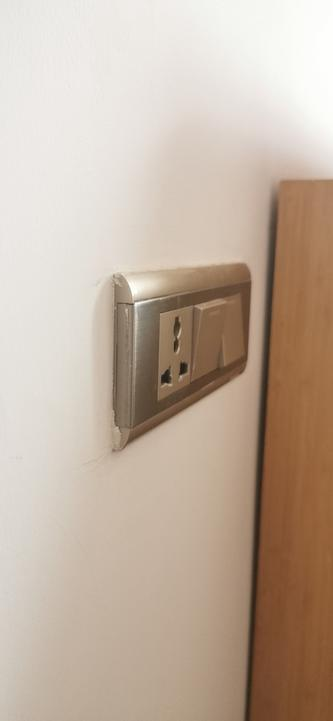switch: (189, 299, 227, 377), (224, 294, 250, 365)
